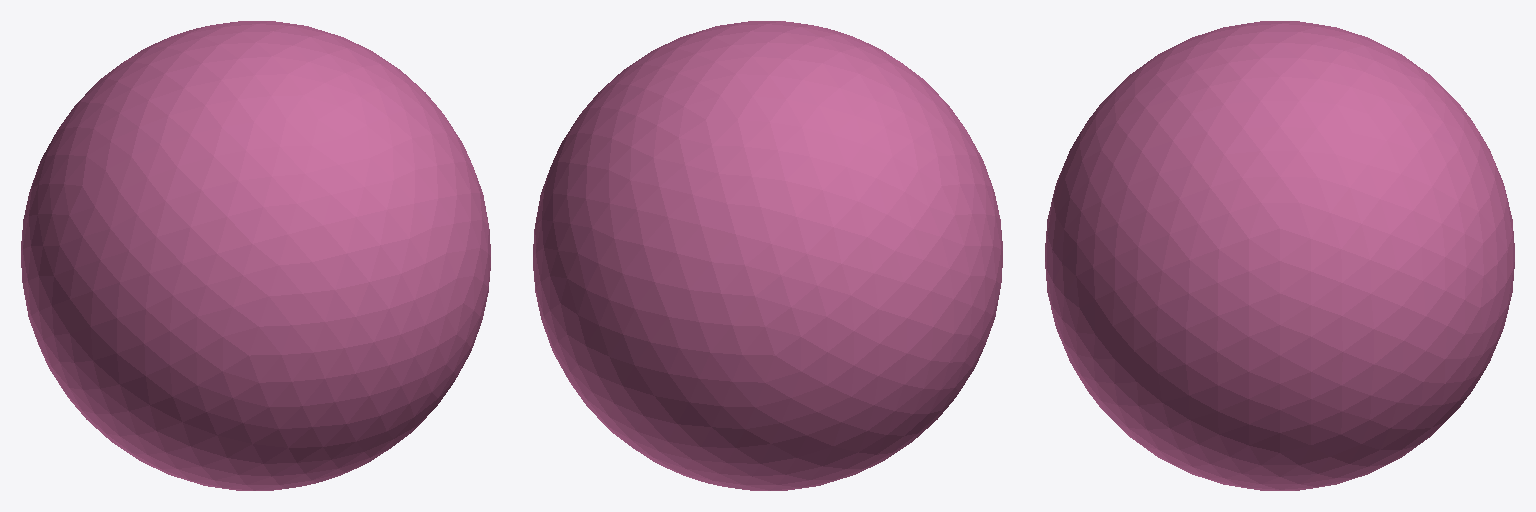
URDF robot description (indenter):
<robot name="indenter">

    <link name="base_link"/>
    <link name="translation_x"/>
    <link name="translation_y"/>
    <link name="translation_z"/>
    <link name="rotation_x"/>
    <link name="rotation_y"/>
    <joint name="x_joint" type="prismatic">
        <origin xyz="0 0 0" rpy="0 0 0"/>
        <parent link="base_link"/>
        <child link="translation_x"/>
        <axis xyz="1 0 0"/>
        <limit effort="12" lower="-1" upper="1" velocity="2.6100"/>
    </joint>

    <joint name="y_joint" type="prismatic">
        <origin xyz="0 0 0" rpy="0 0 0"/>
        <parent link="translation_x"/>
        <child link="translation_y"/>
        <axis xyz="0 1 0"/>
        <limit effort="12" lower="-1" upper="1" velocity="2.6100"/>
    </joint>

    <joint name="z_joint" type="prismatic">
        <origin xyz="0 0 0" rpy="0 0 0"/>
        <parent link="translation_y"/>
        <child link="translation_z"/>
        <axis xyz="0 0 1"/>
        <limit effort="12" lower="-1" upper="1" velocity="2.6100"/>
    </joint>
    <joint name="rx_joint" type="revolute">
        <origin xyz="0 0 0" rpy="0 0 0"/>
        <parent link="translation_z"/>
        <child link="rotation_x"/>
        <axis xyz="1 0 0"/>
        <limit effort="12" lower="-2.8973" upper="2.8973" velocity="2.6100"/>
    </joint>
    <joint name="ry_joint" type="revolute">
        <origin xyz="0 0 0" rpy="0 0 0"/>
        <parent link="rotation_x"/>
        <child link="rotation_y"/>
        <axis xyz="0 1 0"/>
        <limit effort="12" lower="-2.8973" upper="2.8973" velocity="2.6100"/>
    </joint>
    <joint name="rz_joint" type="revolute">
        <origin xyz="0 0 0" rpy="0 0 0"/>
        <parent link="rotation_y"/>
        <child link="indenter"/>
        <axis xyz="0 0 1"/>
        <limit effort="12" lower="-2.8973" upper="2.8973" velocity="2.6100"/>
    </joint>

	<link name="indenter">
		<visual>
			<origin rpy="0.0 0.0 0.0" xyz="0.0 0.0 0.0"/>
			<geometry>
				<mesh filename="bounding_sphere.obj"/>
			</geometry>
		</visual>
		<collision>
			<origin rpy="0.0 0.0 0.0" xyz="0.0 0.0 0.0"/>
			<geometry>
				<mesh filename="bounding_sphere.obj"/>
			</geometry>
            <sdf resolution="256"/>
		</collision>
		<inertial>
			<origin rpy="0.0 0.0 0.0" xyz="0.0 0.0 0.0"/>
			<mass value="0.00327211"/>
			<inertia ixx="1.14764e-7" iyy="8.89985e-8" izz="1.14738e-7" ixy="0.0" ixz="-4.72875e-14" iyz="0.0"/>
		</inertial>
	</link>
</robot>

--- What the picture shows (computed from the rendered views, not written in the file) ---
The picture shows the robot from 3 angles, left to right: view 1: azimuth 30°, elevation 25°; view 2: azimuth 150°, elevation 25°; view 3: azimuth 270°, elevation 25°; orthographic projection.
Robot: indenter — 7 links, 6 joints (3 revolute, 3 prismatic); root link base_link; default pose: all joints at 0.
Visible links, largest first — view 1: indenter; view 2: indenter; view 3: indenter.
Boxes of the visible links, x1=… form: indenter: x1=21, y1=21, x2=490, y2=490; indenter: x1=533, y1=21, x2=1002, y2=490; indenter: x1=1045, y1=21, x2=1514, y2=490.
Bounding box of the posed robot: 0.0164 × 0.0164 × 0.0164 m (x, y, z).
1 mesh visuals loaded from 1 distinct referenced files (1 OBJ).